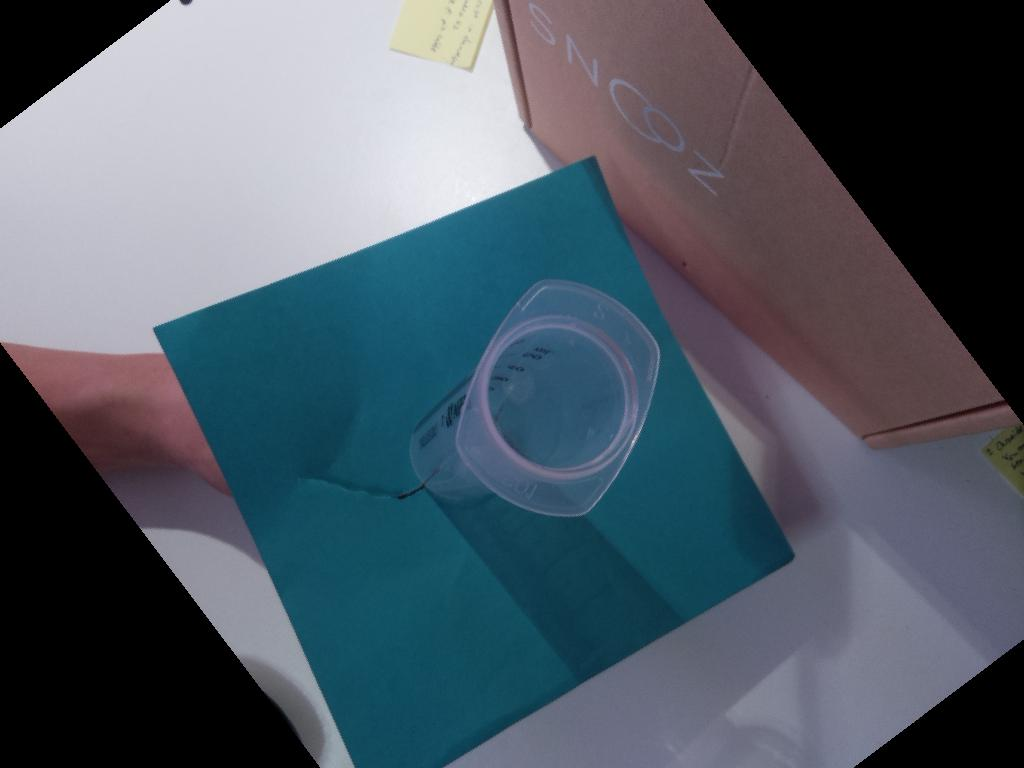clean: (456, 277, 663, 517)
